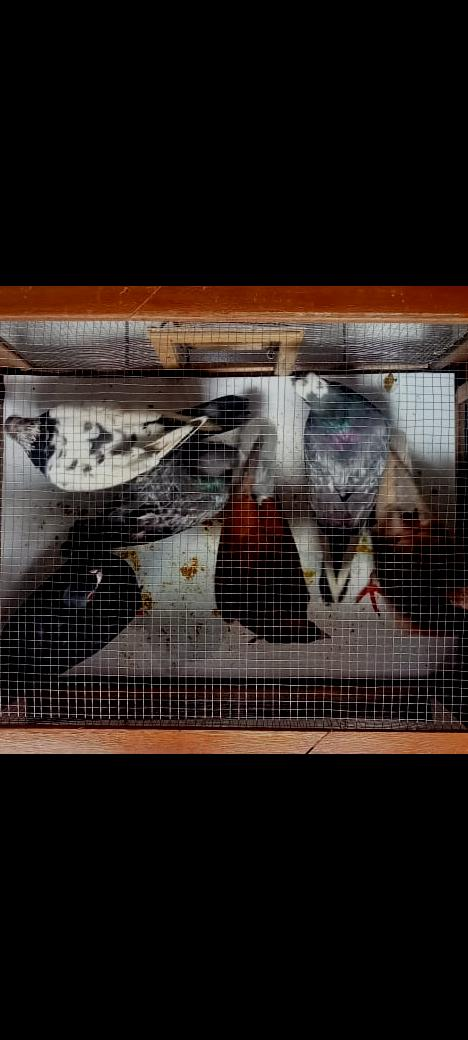Merpati: (3, 386, 267, 493), (212, 419, 331, 644), (288, 368, 391, 605), (367, 428, 468, 640), (59, 443, 240, 556), (0, 550, 139, 695)
